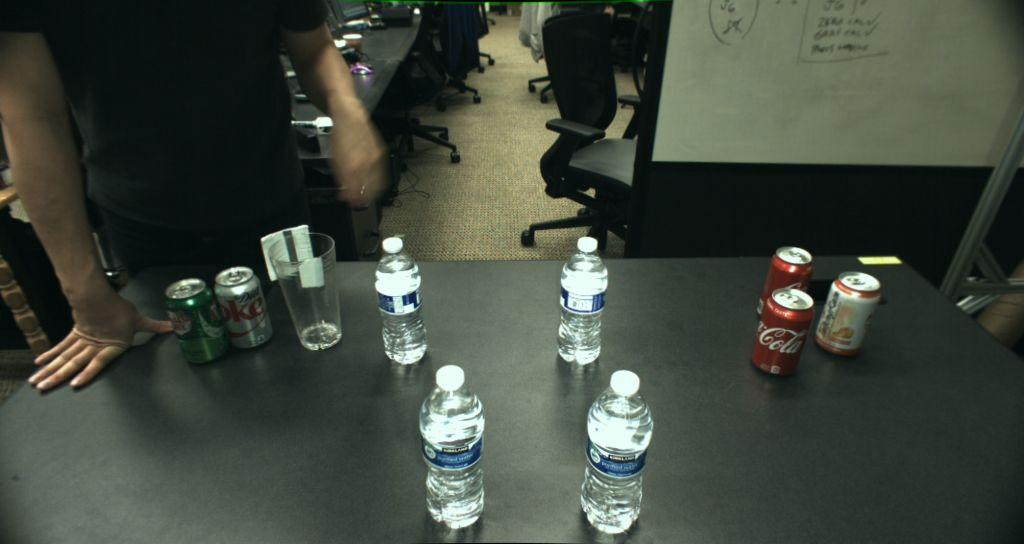can_coke: (752, 289, 813, 375)
can_diet_coke: (213, 267, 273, 350)
can_ginger_ale: (166, 278, 230, 364)
can_talking_rain_peach_nectarine: (816, 270, 881, 354)
water_bottle: (580, 370, 654, 534), (418, 365, 485, 529), (374, 236, 428, 365), (557, 236, 607, 365)
